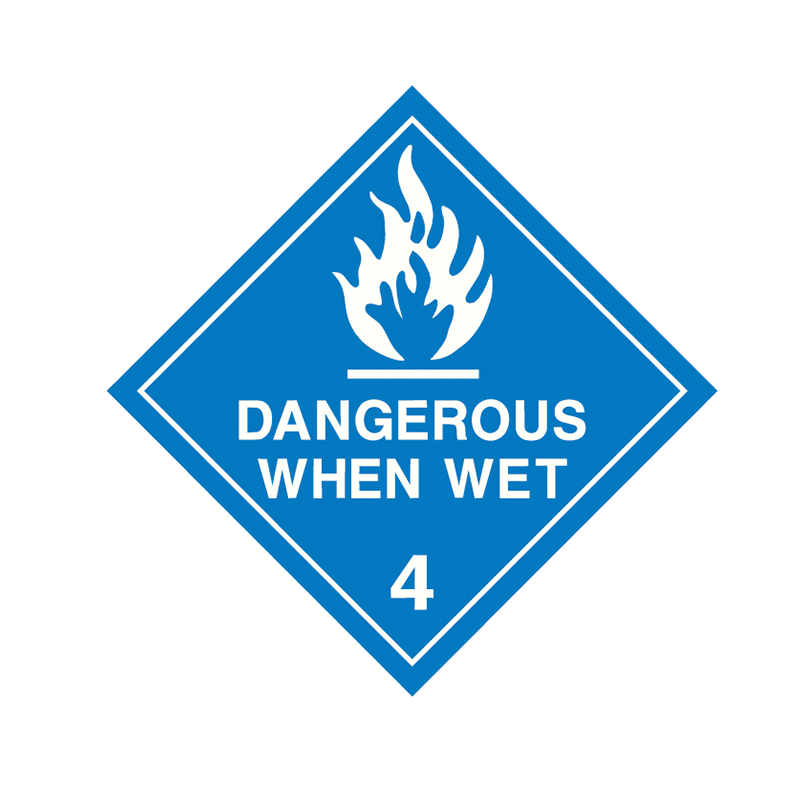DangerousWhenWet: (100, 87, 716, 689)
